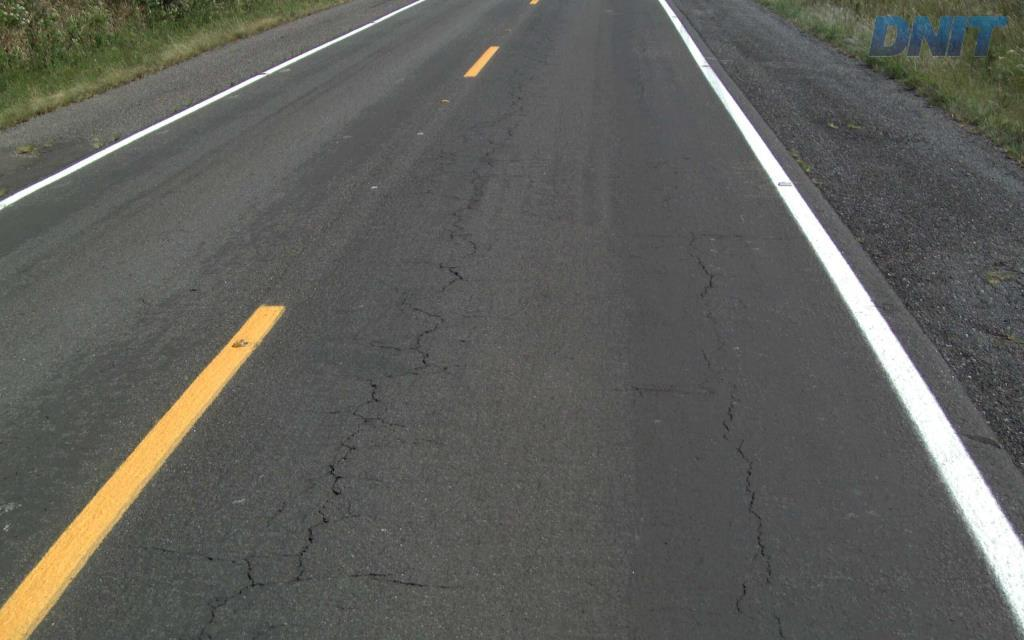crack: (177, 551, 275, 639), (735, 439, 772, 587)
